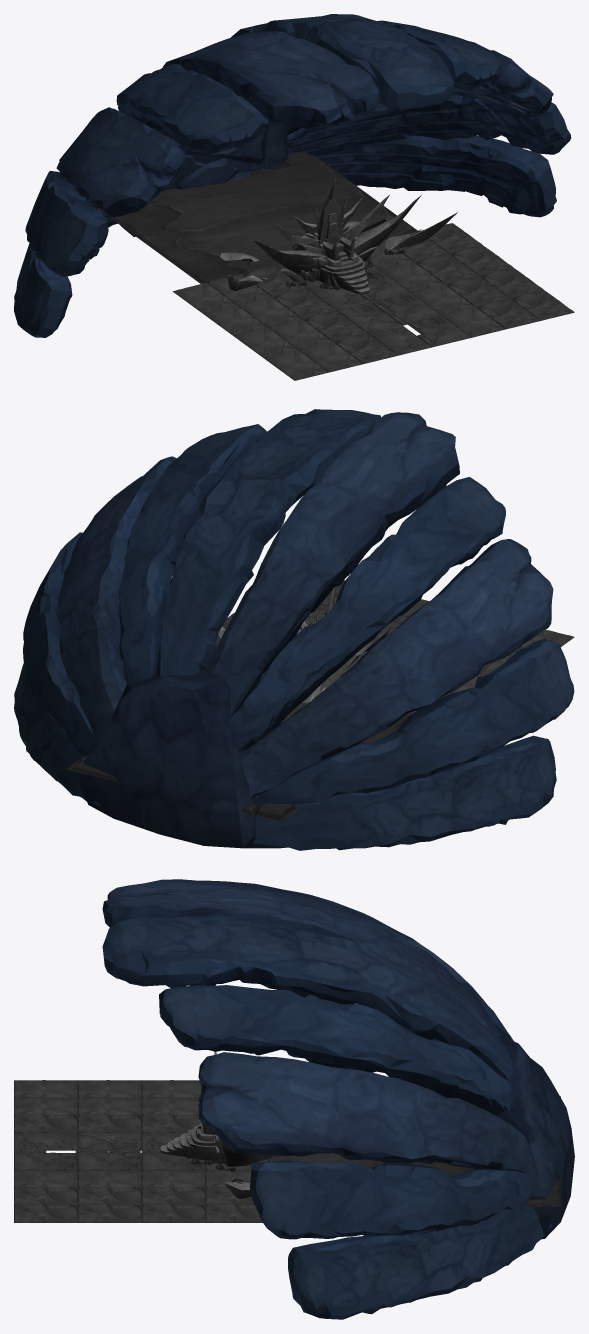
Rendered from env_exe_sith_temple_01_pre.glb.
The picture shows the model from 3 angles, top to bottom: view 1: azimuth 30°, elevation 25°; view 2: azimuth 150°, elevation 25°; view 3: azimuth 270°, elevation 25°; orthographic projection. The views are drawn at different scales.
Visible parts, largest first — view 1: exe_crack_wall_01_mesh, exe_floor_01d_mesh, exe_throne_01_RT_mesh, exe_floor_01b_mesh (1), exe_floor_01a_mesh (2), exe_floor_01e_mesh (10), exe_floor_01f_mesh, exe_floor_01f_mesh (4), exe_floor_01f_mesh (5), exe_floor_01e_mesh (4), exe_floor_01f_mesh (2), exe_floor_01f_mesh (3) (+21 smaller); view 2: exe_crack_wall_01_mesh, exe_floor_01d_mesh, exe_throne_01_RT_mesh; view 3: exe_crack_wall_01_mesh, exe_throne_01_RT_mesh, exe_floor_01d_mesh, exe_floor_01f_mesh (2), exe_floor_01f_mesh (3), exe_floor_01b_mesh (2), exe_floor_01e_mesh (1), exe_floor_01f_mesh (1), exe_floor_01a_mesh (2), exe_floor_01f_mesh (5), exe_floor_01e_mesh (9), exe_floor_01e_mesh (3) (+18 smaller).
Boxes of the visible parts, left/top/right/bottom form: exe_crack_wall_01_mesh: left=14, top=14, right=571, bottom=337; exe_floor_01d_mesh: left=97, top=151, right=417, bottom=283; exe_throne_01_RT_mesh: left=220, top=180, right=457, bottom=294; exe_floor_01b_mesh (1): left=407, top=315, right=471, bottom=345; exe_floor_01a_mesh (2): left=368, top=325, right=431, bottom=355; exe_floor_01e_mesh (10): left=264, top=350, right=328, bottom=380; exe_floor_01f_mesh: left=272, top=288, right=336, bottom=319; exe_floor_01f_mesh (4): left=333, top=333, right=397, bottom=363; exe_floor_01f_mesh (5): left=476, top=298, right=539, bottom=329; exe_floor_01e_mesh (4): left=299, top=341, right=363, bottom=372; exe_floor_01f_mesh (2): left=415, top=254, right=478, bottom=284; exe_floor_01f_mesh (3): left=445, top=276, right=509, bottom=306; exe_crack_wall_01_mesh: left=14, top=409, right=574, bottom=850; exe_floor_01d_mesh: left=66, top=680, right=408, bottom=822; exe_throne_01_RT_mesh: left=218, top=586, right=390, bottom=702; exe_crack_wall_01_mesh: left=102, top=879, right=574, bottom=1319; exe_throne_01_RT_mesh: left=160, top=1051, right=295, bottom=1198; exe_floor_01d_mesh: left=268, top=1096, right=560, bottom=1206; exe_floor_01f_mesh (2): left=141, top=1187, right=205, bottom=1205; exe_floor_01f_mesh (3): left=77, top=1187, right=141, bottom=1205; exe_floor_01b_mesh (2): left=77, top=1152, right=141, bottom=1170; exe_floor_01e_mesh (1): left=77, top=1097, right=141, bottom=1115; exe_floor_01f_mesh (1): left=77, top=1114, right=141, bottom=1132; exe_floor_01a_mesh (2): left=14, top=1132, right=77, bottom=1150; exe_floor_01f_mesh (5): left=14, top=1187, right=77, bottom=1205; exe_floor_01e_mesh (9): left=77, top=1080, right=141, bottom=1097; exe_floor_01e_mesh (3): left=77, top=1170, right=141, bottom=1187.
Size of what is drawn, in the model's own units: 45.24 by 22.67 by 40.18.
Materials: 9 (9 with a texture image).
